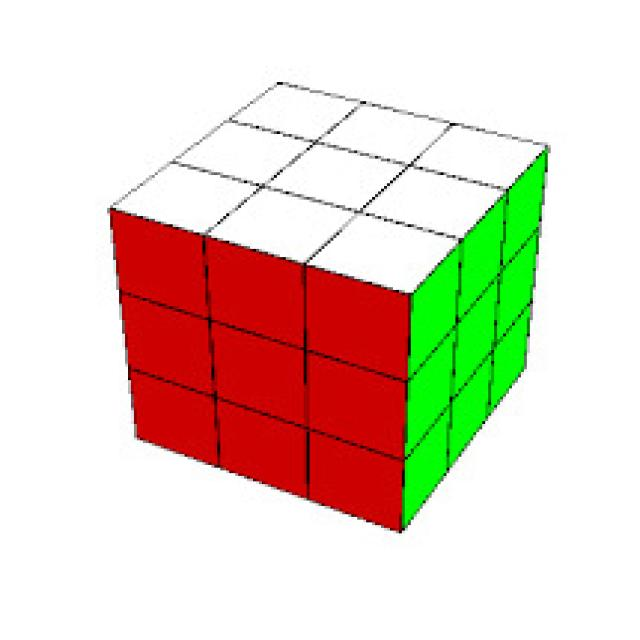Cubo-Resuelto: (107, 82, 548, 528)
